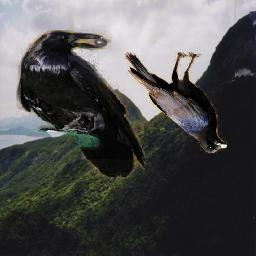Crow: (17, 31, 146, 180), (125, 52, 227, 154)
